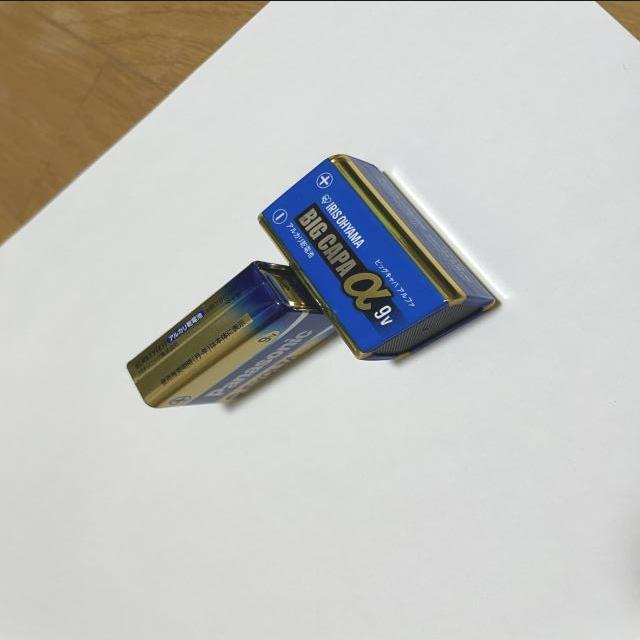9V: (255, 153, 500, 362), (126, 261, 337, 409)
